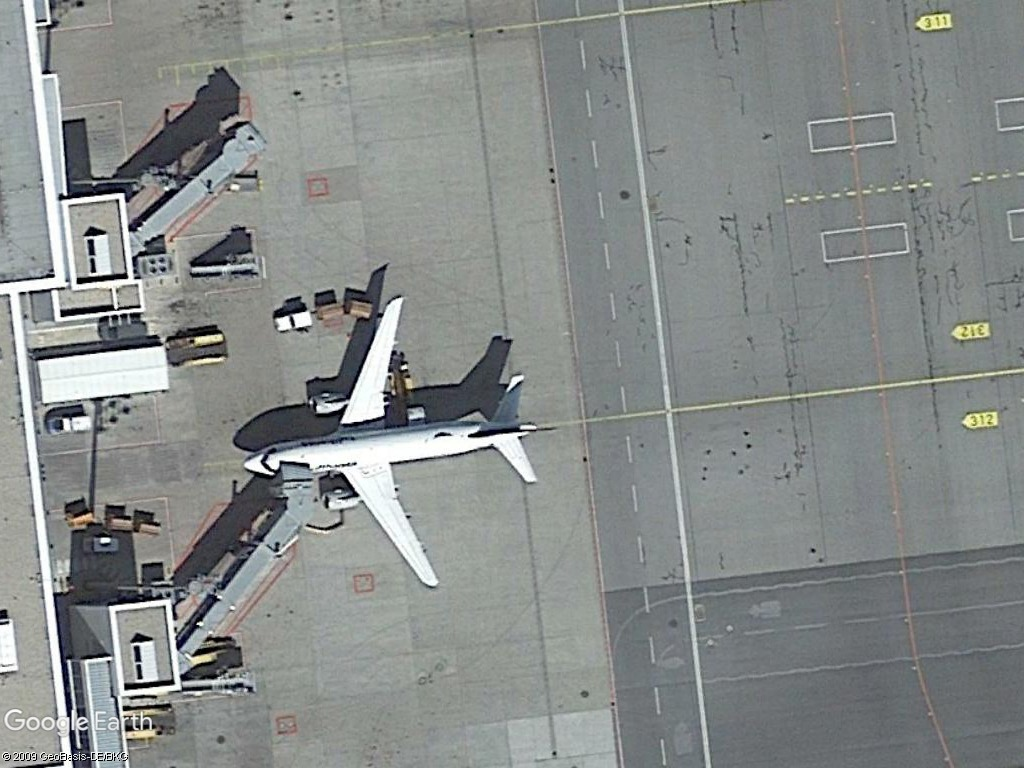airliner: (237, 277, 560, 593)
stairtruck: (182, 666, 262, 703)
